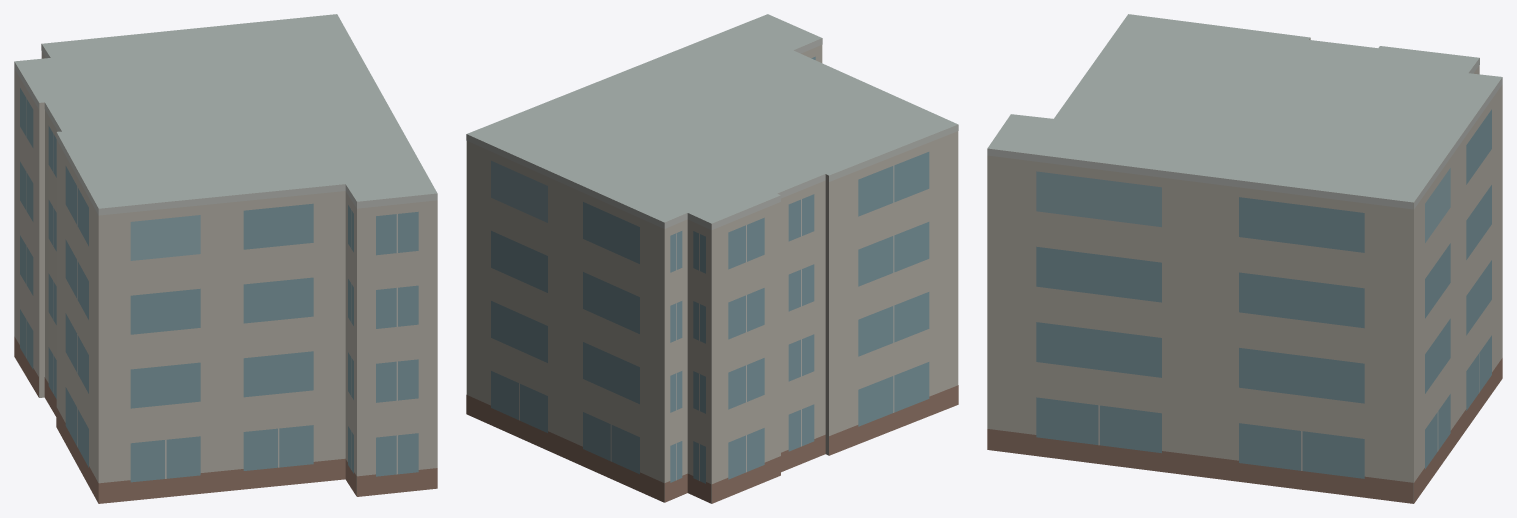
Rendered from survey-upis-32911929.glb.
The picture shows the model from 3 angles, left to right: view 1: azimuth 30°, elevation 25°; view 2: azimuth 150°, elevation 25°; view 3: azimuth 270°, elevation 25°; orthographic projection. The views are drawn at different scales.
Parts seen in each view (by area): view 1: survey-upis-32911929.tmp; view 2: survey-upis-32911929.tmp; view 3: survey-upis-32911929.tmp.
Part boxes in pixels (x1,y1,x2,y2): survey-upis-32911929.tmp: (14, 14, 437, 503); survey-upis-32911929.tmp: (466, 14, 958, 503); survey-upis-32911929.tmp: (987, 14, 1502, 503).
Bounding box in the file's own units: 14.1 × 10.5 × 16.28.
